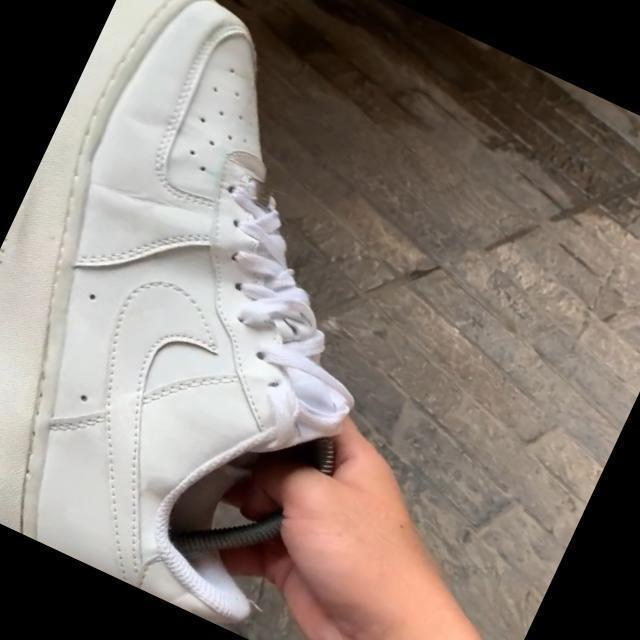nike fake air force: (0, 0, 503, 639)
